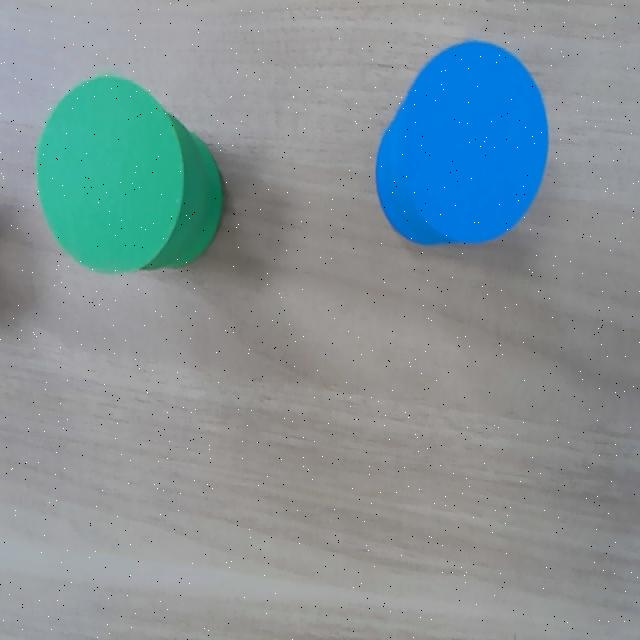b: (398, 41, 548, 241)
g: (34, 75, 184, 272)
